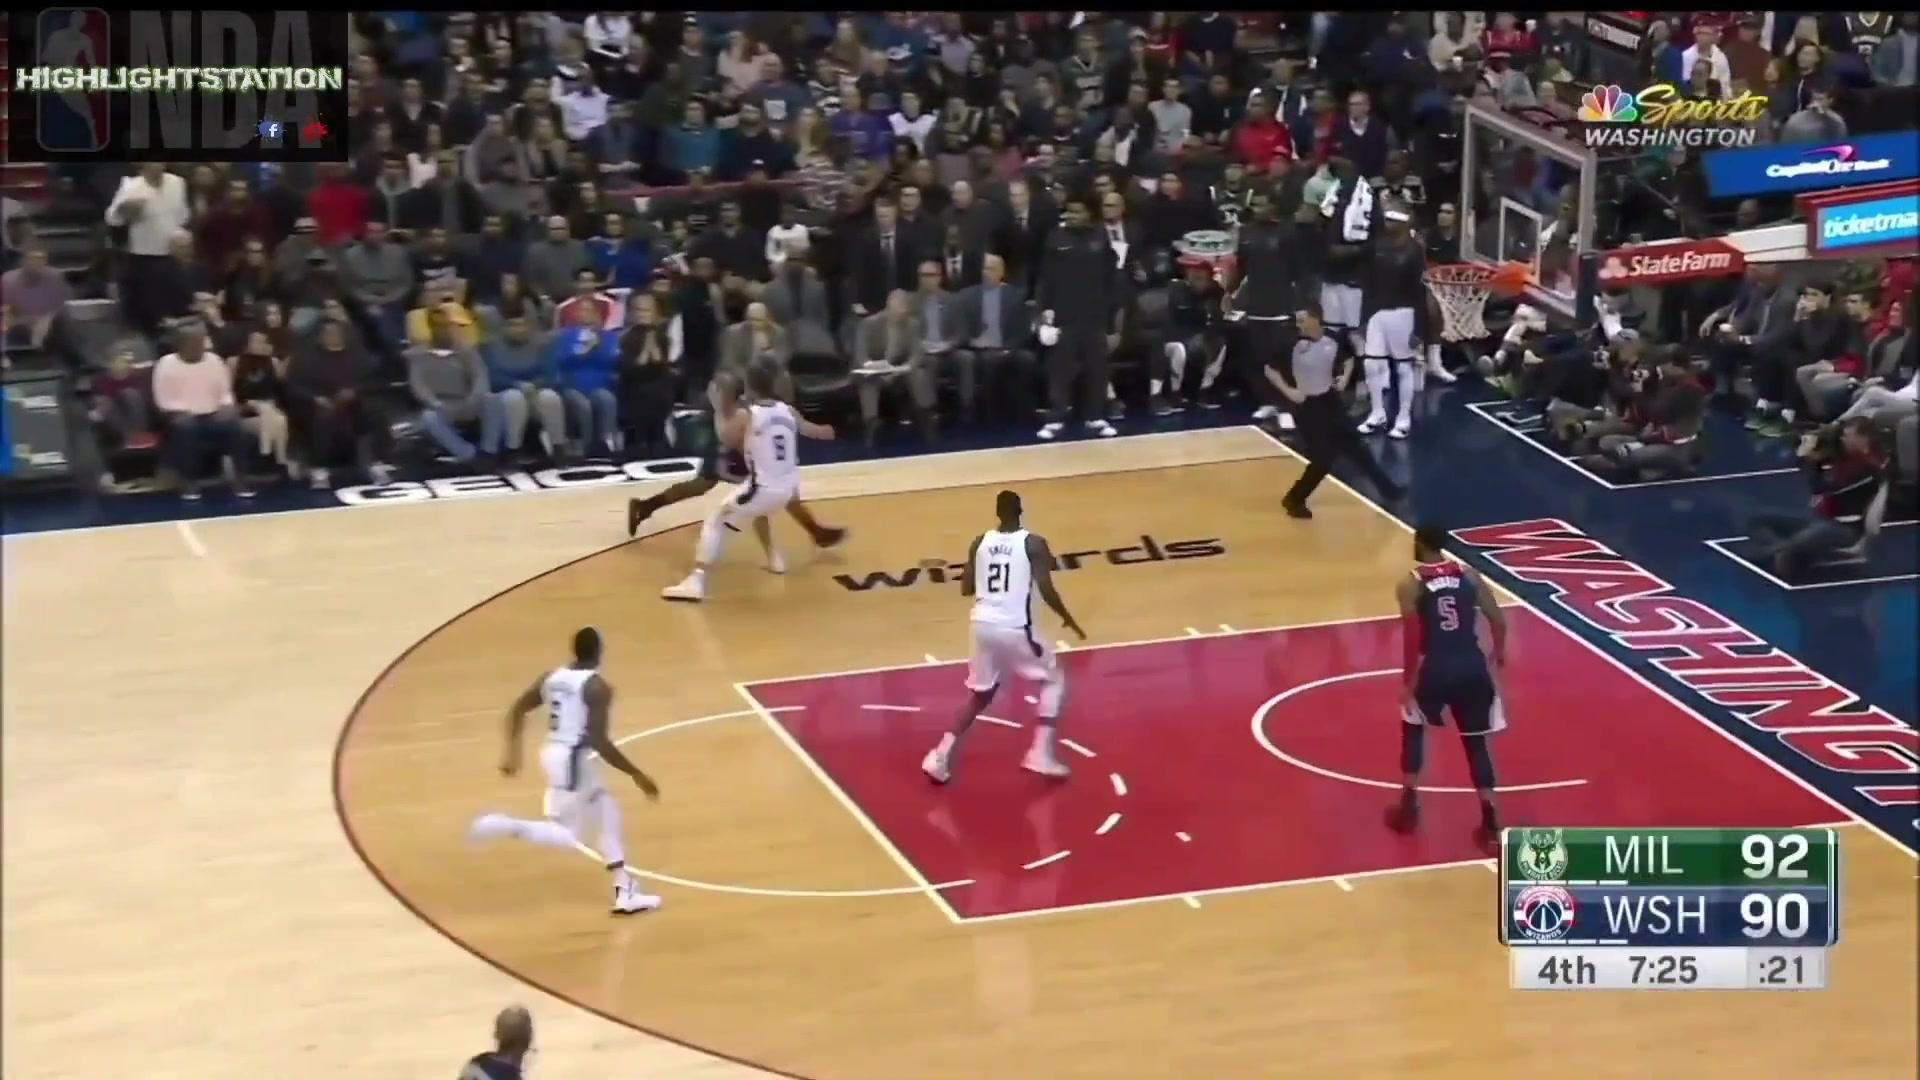foul: (612, 342, 861, 608)
